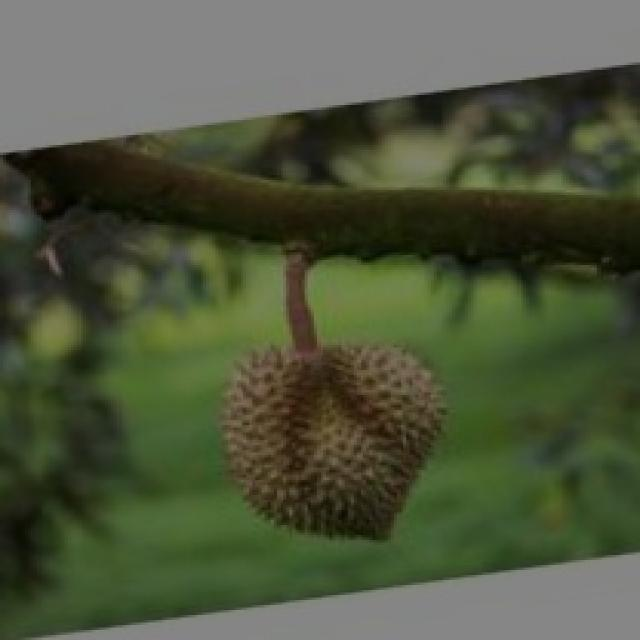fruit: (185, 305, 480, 570)
